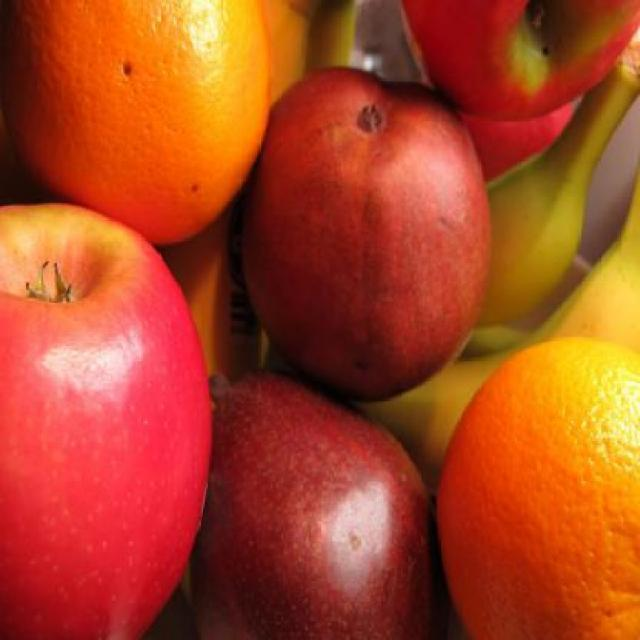Orange: (6, 6, 291, 249), (436, 338, 638, 638)
